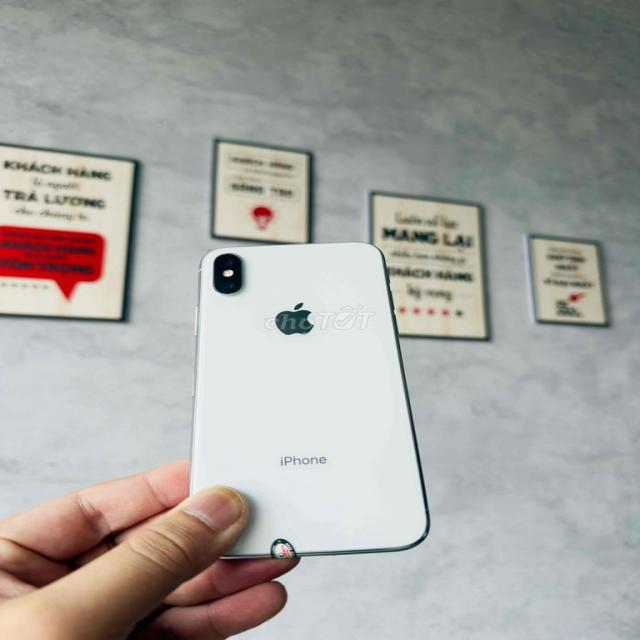gen_x_xs: (174, 234, 450, 572)
